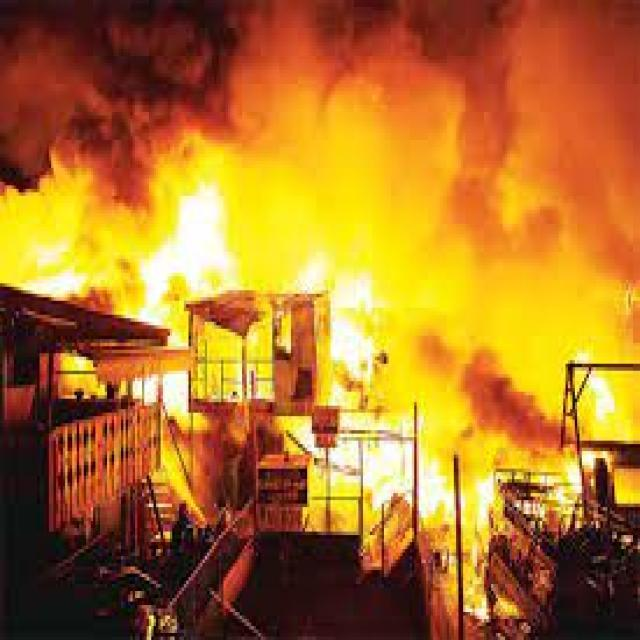Fire: (345, 409, 472, 519), (330, 238, 383, 394), (31, 234, 97, 298), (584, 350, 616, 430)
Smoke: (377, 4, 640, 357), (0, 0, 375, 247), (140, 181, 262, 306), (472, 330, 559, 476)
